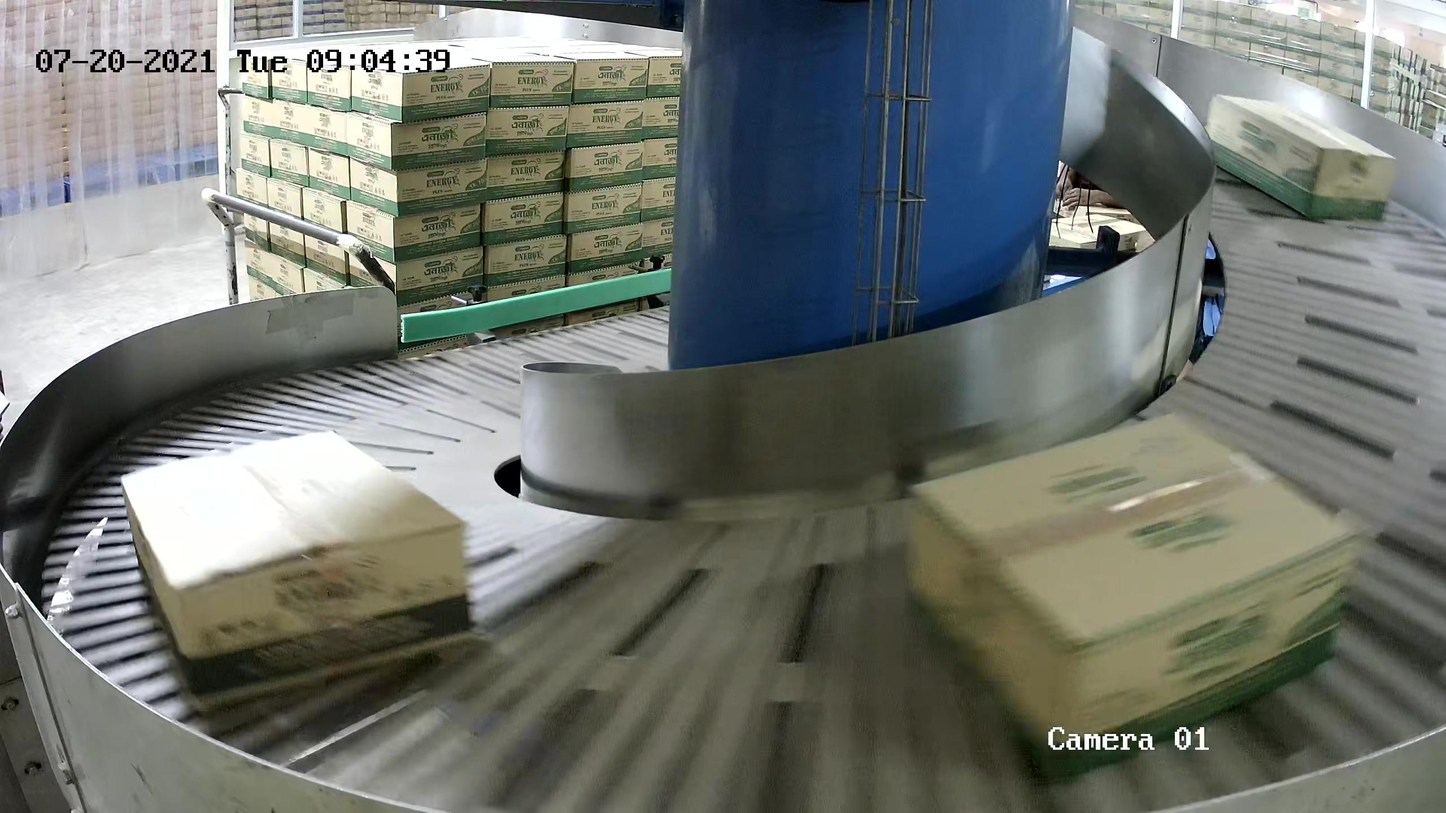Box: (903, 410, 1356, 789), (120, 427, 478, 718), (1200, 93, 1400, 224)
